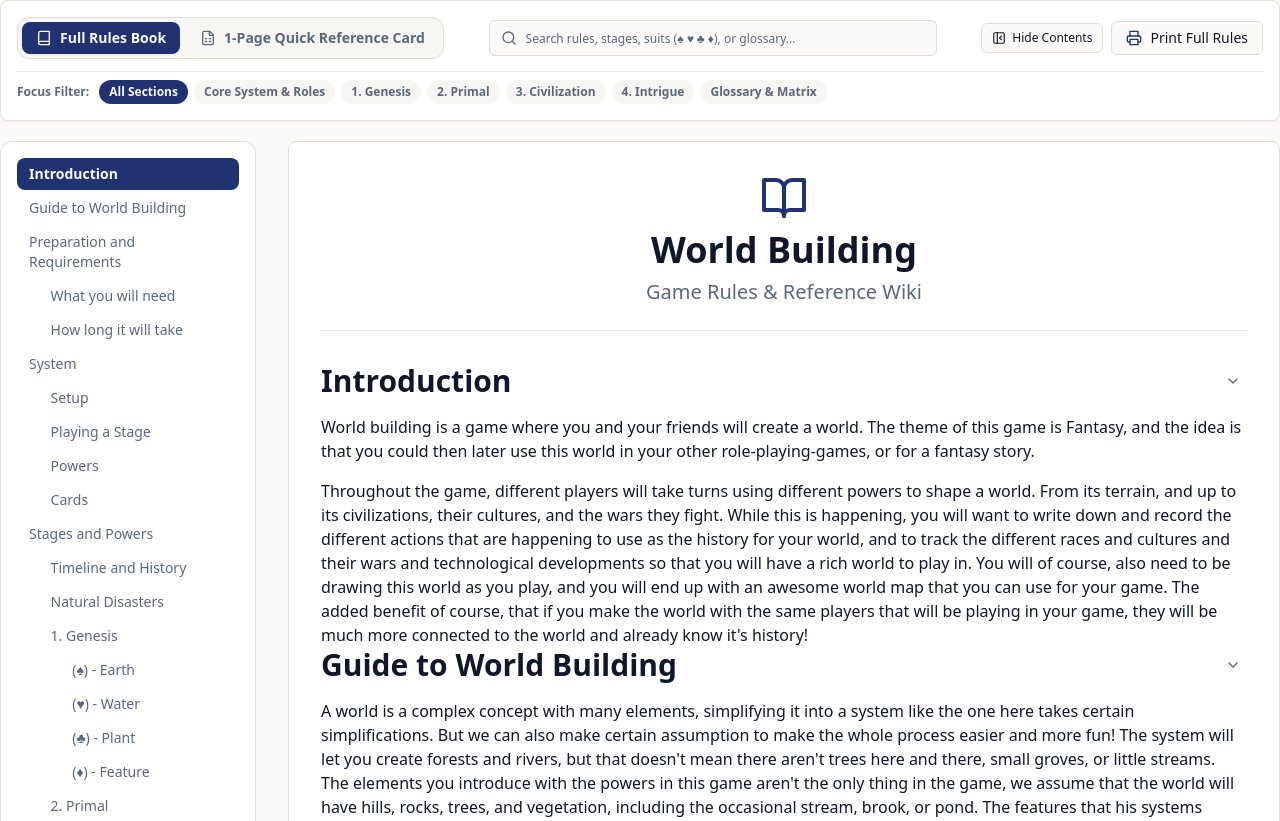
Test: Play Studio & Rules Integration › renders Rules page with Glossary and switches to 1-Page Quick Reference Card
// Switch to 1-Page Quick Reference Card
Step 1. Click the tab "1-Page Quick Reference Card" → (312, 38), box [186,22,439,54]
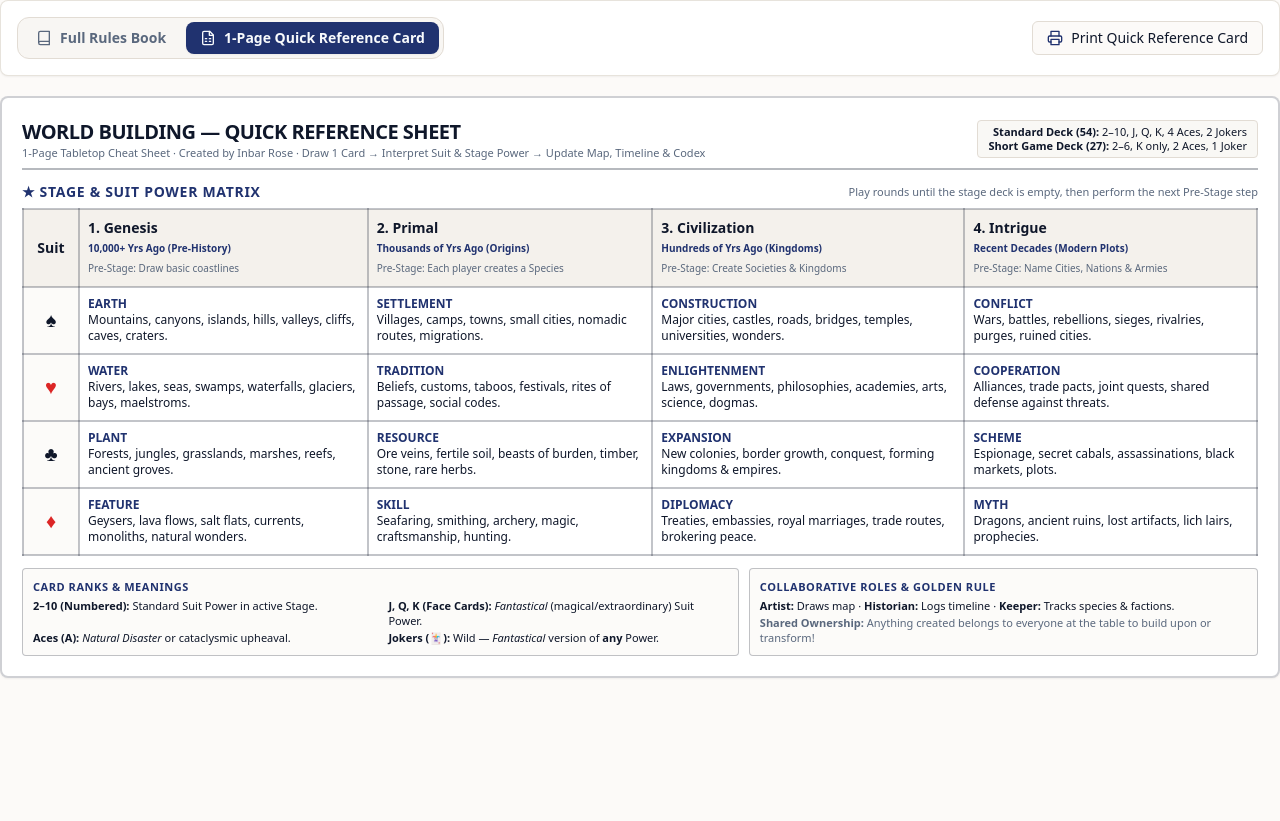
Expected: the heading "World Building — Quick Reference Sheet" is shown, [22,118,461,145]
Expected: the heading "★ Stage & Suit Power Matrix" is shown, [22,182,261,202]
